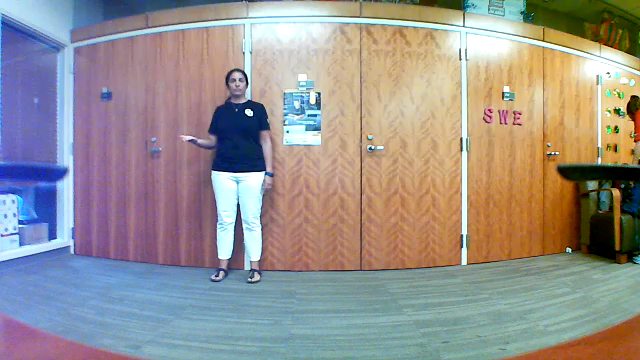land: (173, 132, 204, 149)
